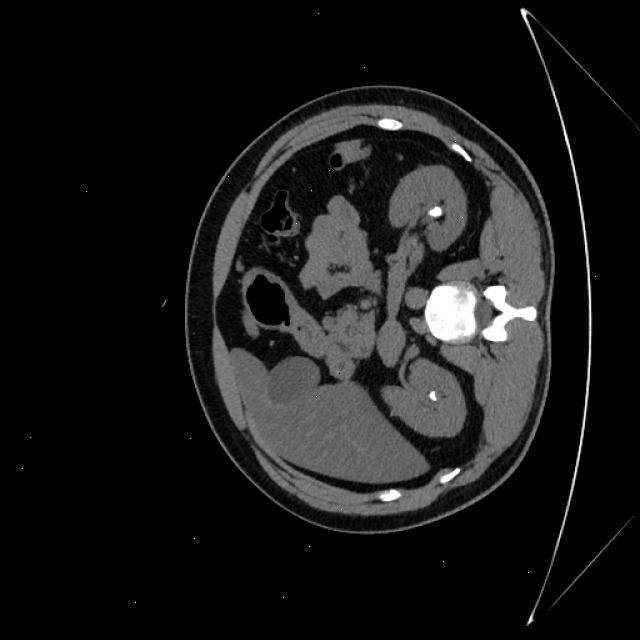kidneystone: (428, 204, 443, 219), (429, 389, 438, 401)
